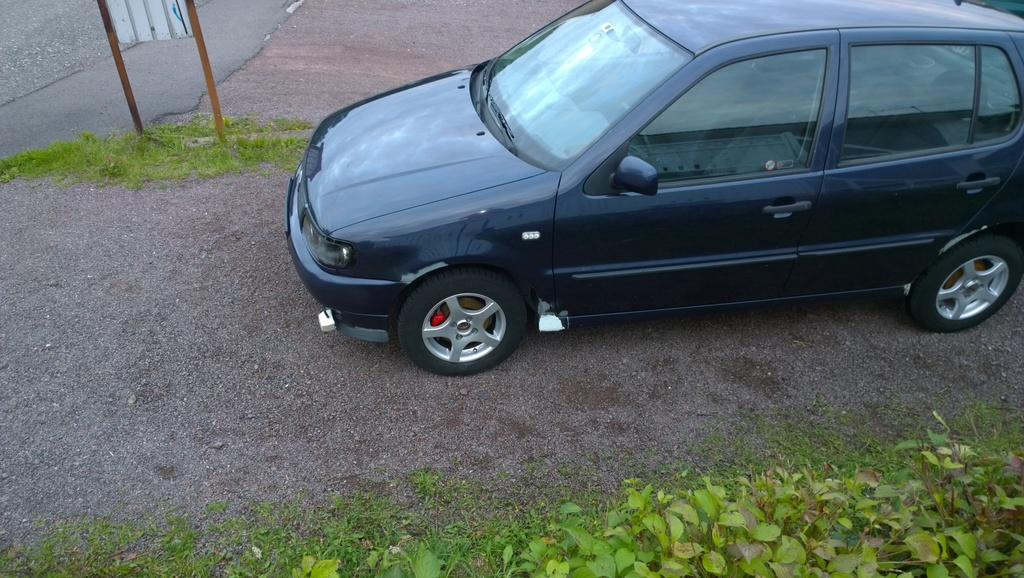Car: (279, 7, 1004, 376)
